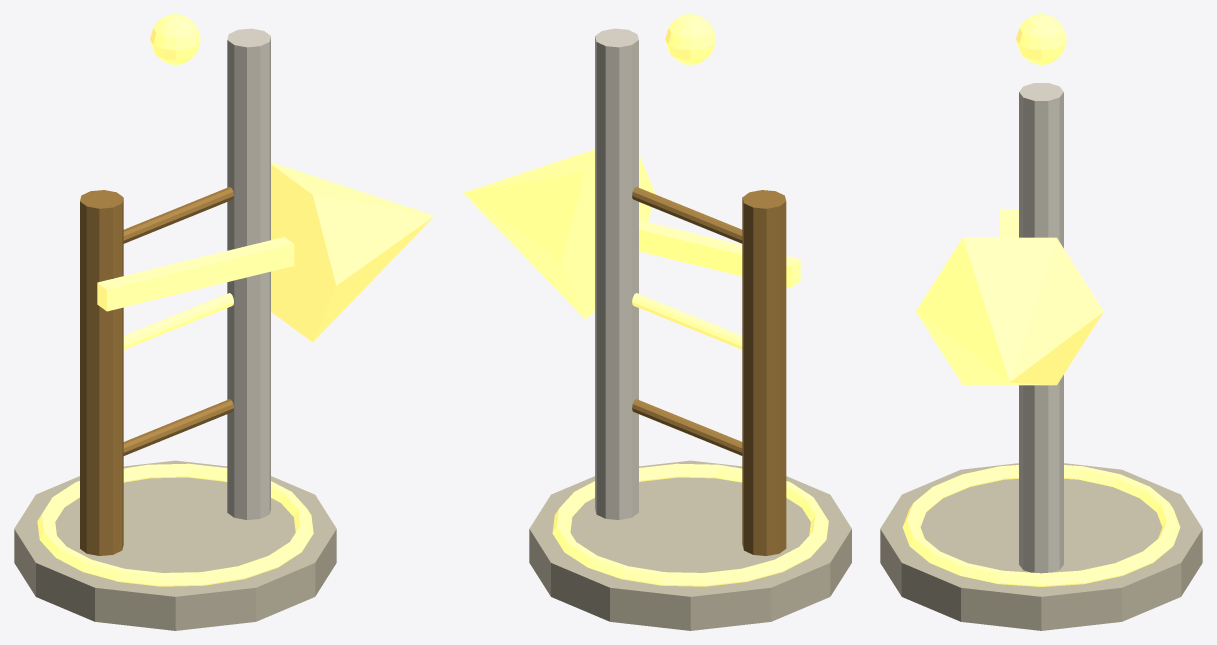
The model's file is runtime.glb.
3 views of the same model, side by side, from view 1: azimuth 30°, elevation 25°; view 2: azimuth 150°, elevation 25°; view 3: azimuth 270°, elevation 25° (orthographic).
Visible parts, largest first — view 1: aetherion-orbit-beacon-v05_base_nocol, aetherion-orbit-beacon-v05_right_mast_nocol, aetherion-orbit-beacon-v05_direction_head_nocol, aetherion-orbit-beacon-v05_left_mast_nocol, aetherion-orbit-beacon-v05_base_orbit_nocol, aetherion-orbit-beacon-v05_direction_bar_nocol, aetherion-orbit-beacon-v05_zenith_nocol, aetherion-orbit-beacon-v05_rung_0_nocol, aetherion-orbit-beacon-v05_rung_1_nocol, aetherion-orbit-beacon-v05_rung_2_nocol; view 2: aetherion-orbit-beacon-v05_base_nocol, aetherion-orbit-beacon-v05_right_mast_nocol, aetherion-orbit-beacon-v05_left_mast_nocol, aetherion-orbit-beacon-v05_direction_head_nocol, aetherion-orbit-beacon-v05_base_orbit_nocol, aetherion-orbit-beacon-v05_direction_bar_nocol, aetherion-orbit-beacon-v05_zenith_nocol, aetherion-orbit-beacon-v05_rung_0_nocol, aetherion-orbit-beacon-v05_rung_1_nocol, aetherion-orbit-beacon-v05_rung_2_nocol; view 3: aetherion-orbit-beacon-v05_base_nocol, aetherion-orbit-beacon-v05_direction_head_nocol, aetherion-orbit-beacon-v05_right_mast_nocol, aetherion-orbit-beacon-v05_base_orbit_nocol, aetherion-orbit-beacon-v05_zenith_nocol, aetherion-orbit-beacon-v05_direction_bar_nocol.
Boxes of the visible parts, x1,y1,x2,y2 form: aetherion-orbit-beacon-v05_base_nocol: (14,460,336,630); aetherion-orbit-beacon-v05_right_mast_nocol: (227,28,270,519); aetherion-orbit-beacon-v05_direction_head_nocol: (271,162,434,342); aetherion-orbit-beacon-v05_left_mast_nocol: (80,190,123,555); aetherion-orbit-beacon-v05_base_orbit_nocol: (37,463,313,586); aetherion-orbit-beacon-v05_direction_bar_nocol: (97,237,294,311); aetherion-orbit-beacon-v05_zenith_nocol: (150,14,200,64); aetherion-orbit-beacon-v05_rung_0_nocol: (123,399,233,455); aetherion-orbit-beacon-v05_rung_1_nocol: (123,293,233,349); aetherion-orbit-beacon-v05_rung_2_nocol: (123,187,233,243); aetherion-orbit-beacon-v05_base_nocol: (529,460,851,630); aetherion-orbit-beacon-v05_right_mast_nocol: (595,28,638,519); aetherion-orbit-beacon-v05_left_mast_nocol: (742,190,786,555); aetherion-orbit-beacon-v05_direction_head_nocol: (463,149,655,318); aetherion-orbit-beacon-v05_base_orbit_nocol: (552,463,828,586); aetherion-orbit-beacon-v05_direction_bar_nocol: (639,220,800,288); aetherion-orbit-beacon-v05_zenith_nocol: (665,14,716,64); aetherion-orbit-beacon-v05_rung_0_nocol: (632,399,742,455); aetherion-orbit-beacon-v05_rung_1_nocol: (632,293,742,349); aetherion-orbit-beacon-v05_rung_2_nocol: (632,187,742,243); aetherion-orbit-beacon-v05_base_nocol: (880,463,1202,630); aetherion-orbit-beacon-v05_direction_head_nocol: (916,237,1103,385); aetherion-orbit-beacon-v05_right_mast_nocol: (1019,83,1063,573); aetherion-orbit-beacon-v05_base_orbit_nocol: (902,465,1180,586); aetherion-orbit-beacon-v05_zenith_nocol: (1016,14,1066,64); aetherion-orbit-beacon-v05_direction_bar_nocol: (1000,209,1018,237).
Size of the model in its own units: 5.88 by 8.01 by 4.29.
